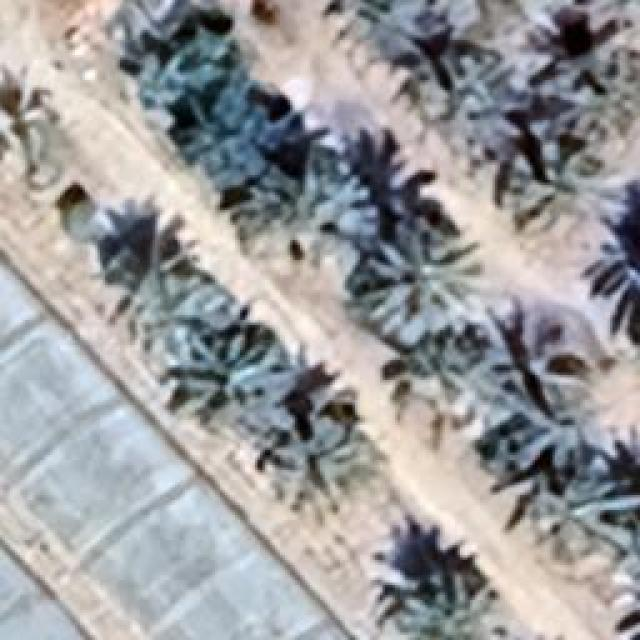PalmTree: (75, 81, 536, 179), (360, 212, 485, 346), (235, 157, 378, 265), (401, 40, 514, 145), (178, 330, 282, 435), (544, 42, 638, 156), (110, 235, 195, 350), (532, 470, 638, 560), (402, 332, 492, 430), (274, 388, 354, 498), (390, 578, 520, 638), (320, 0, 438, 65), (505, 411, 590, 489), (488, 321, 566, 391), (428, 0, 562, 40), (598, 228, 640, 349), (574, 0, 637, 32)
